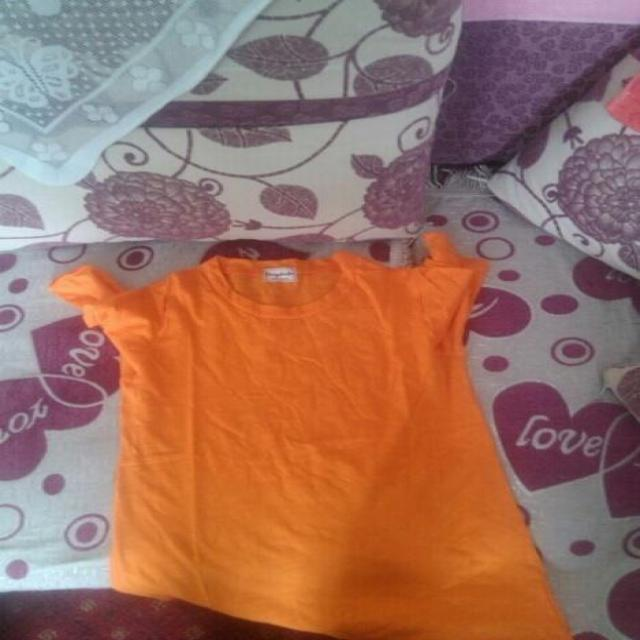short sleeve top: (52, 232, 572, 639)
